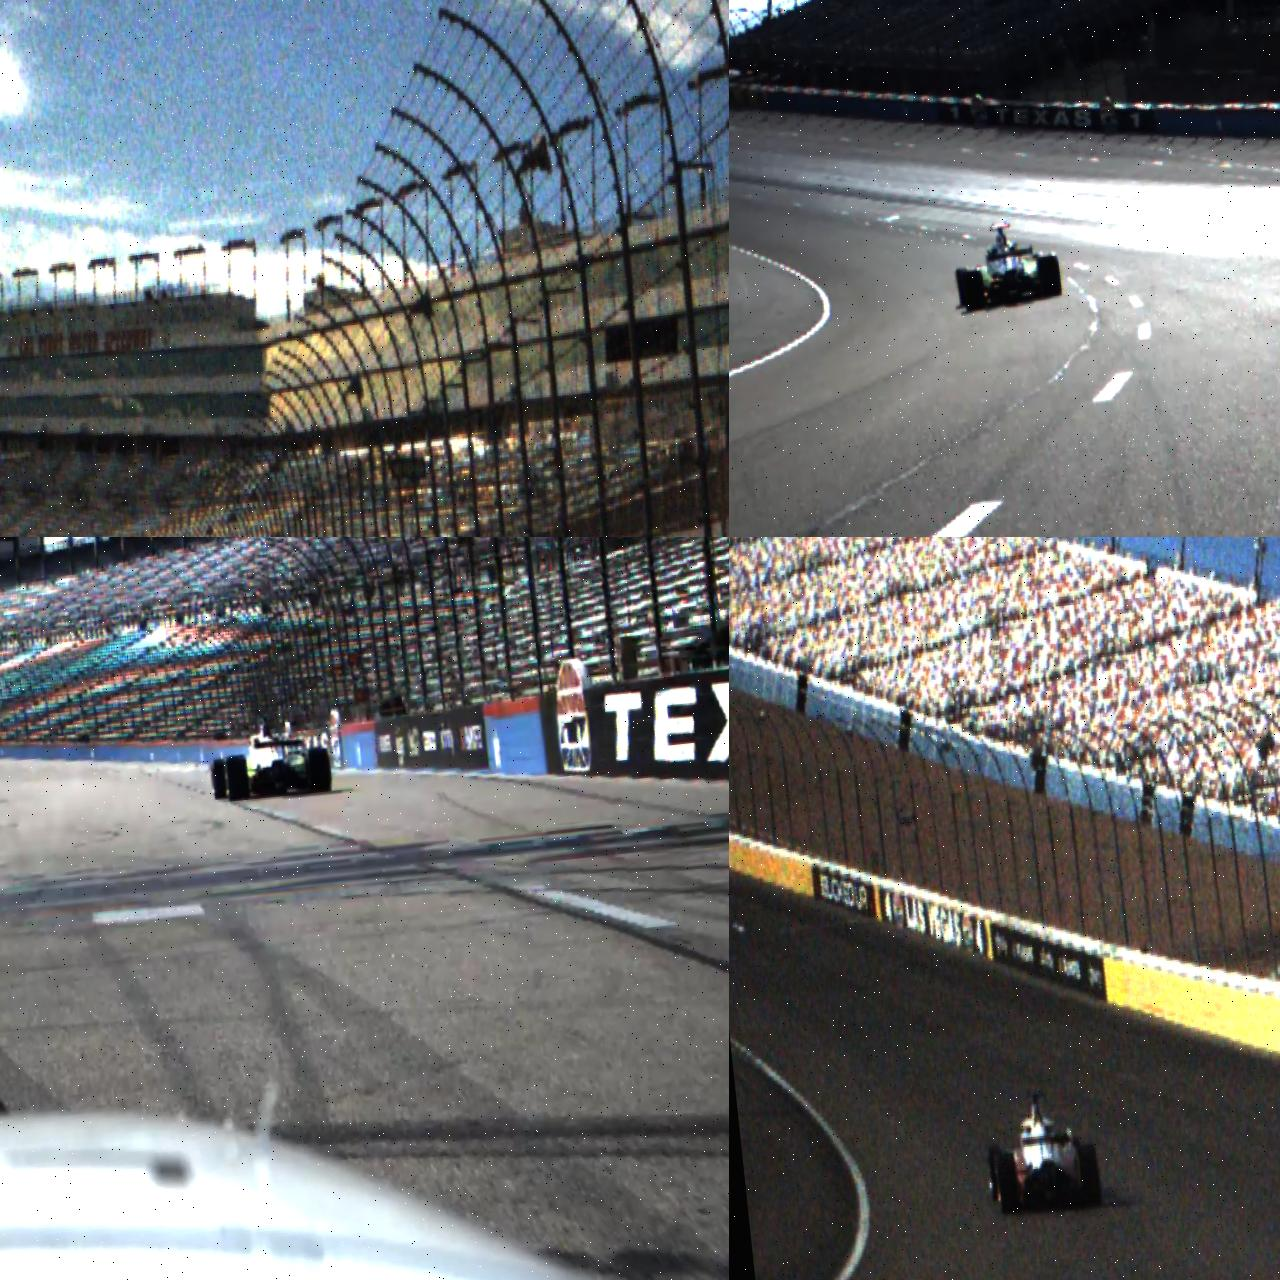AV: (980, 1083, 1103, 1219), (205, 708, 334, 805), (951, 217, 1063, 313)
Wheel: (995, 1152, 1021, 1216), (1078, 1144, 1103, 1208), (986, 1144, 1008, 1205), (224, 754, 251, 802), (308, 747, 333, 795), (1037, 254, 1062, 299), (962, 271, 986, 313), (211, 758, 231, 801), (956, 267, 974, 306)
